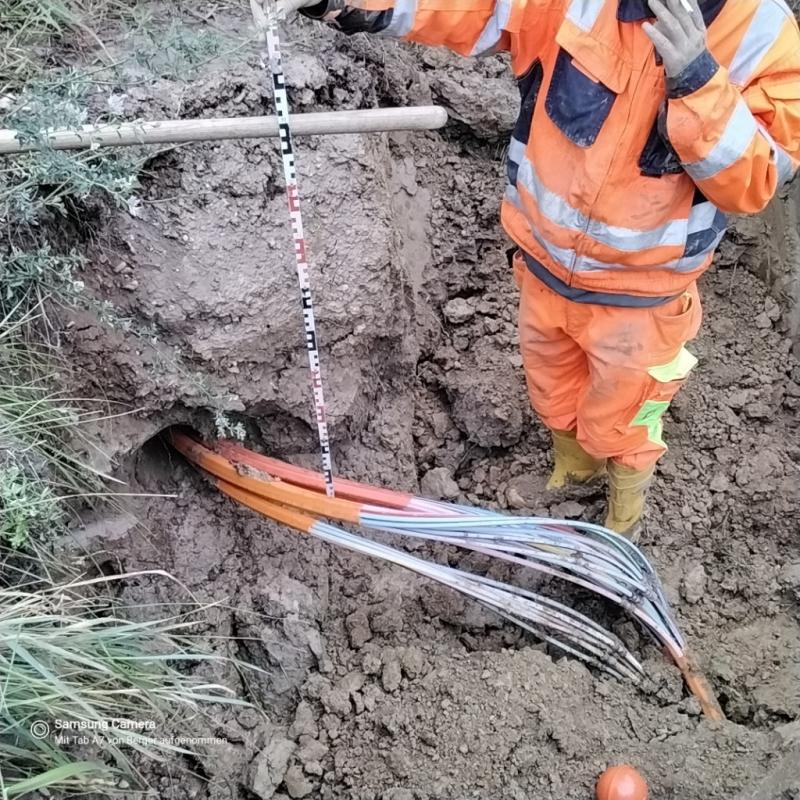Kugelmarker: (595, 767, 646, 799)
Orang-Speednetrohrchen: (171, 434, 470, 572), (612, 563, 725, 720)
